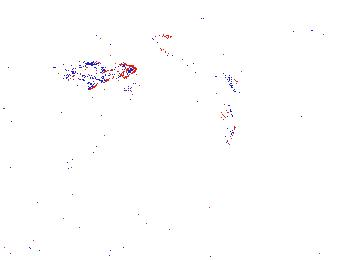glassfish: (193, 68, 239, 148)
redtail glassfish: (155, 16, 287, 66), (155, 40, 249, 100), (54, 60, 138, 82)
